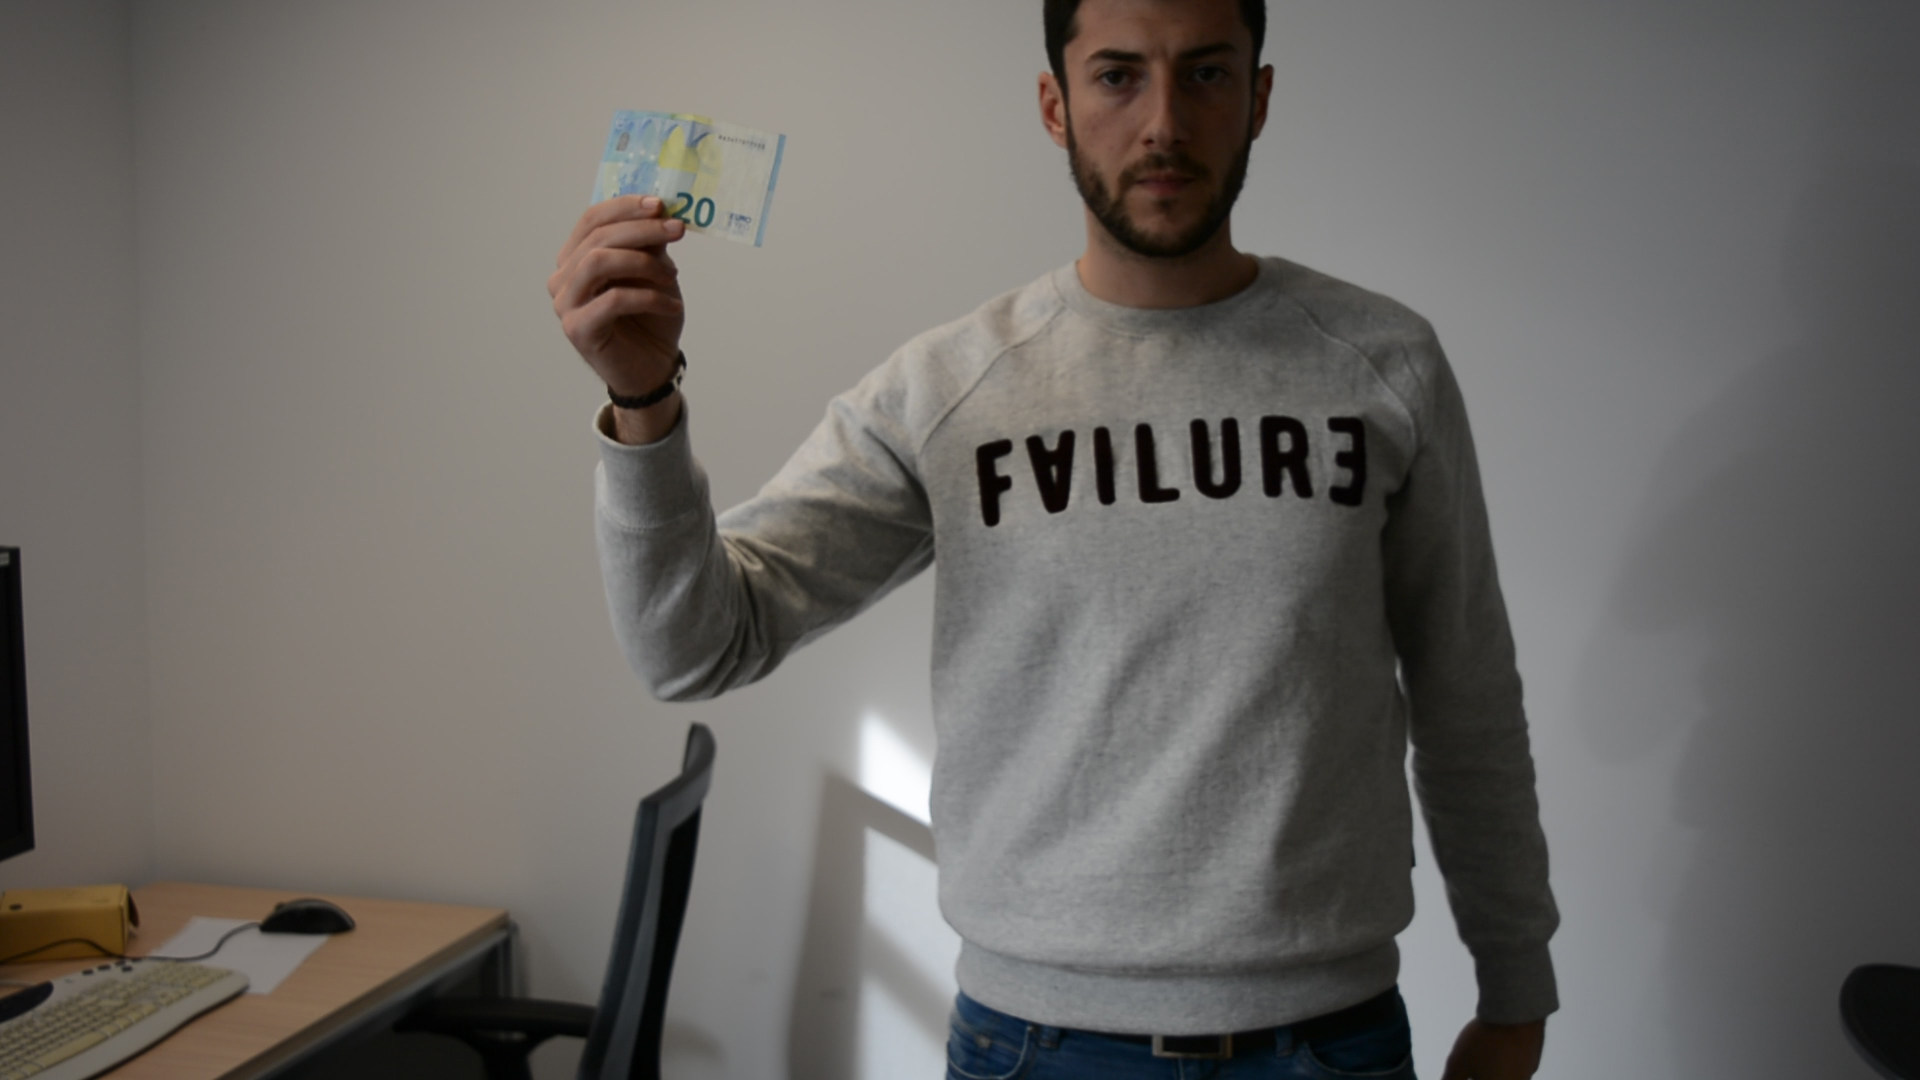billete: (589, 108, 789, 251)
